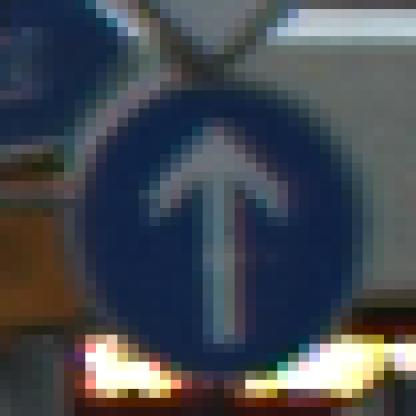AheadOnly: (54, 55, 353, 363)
